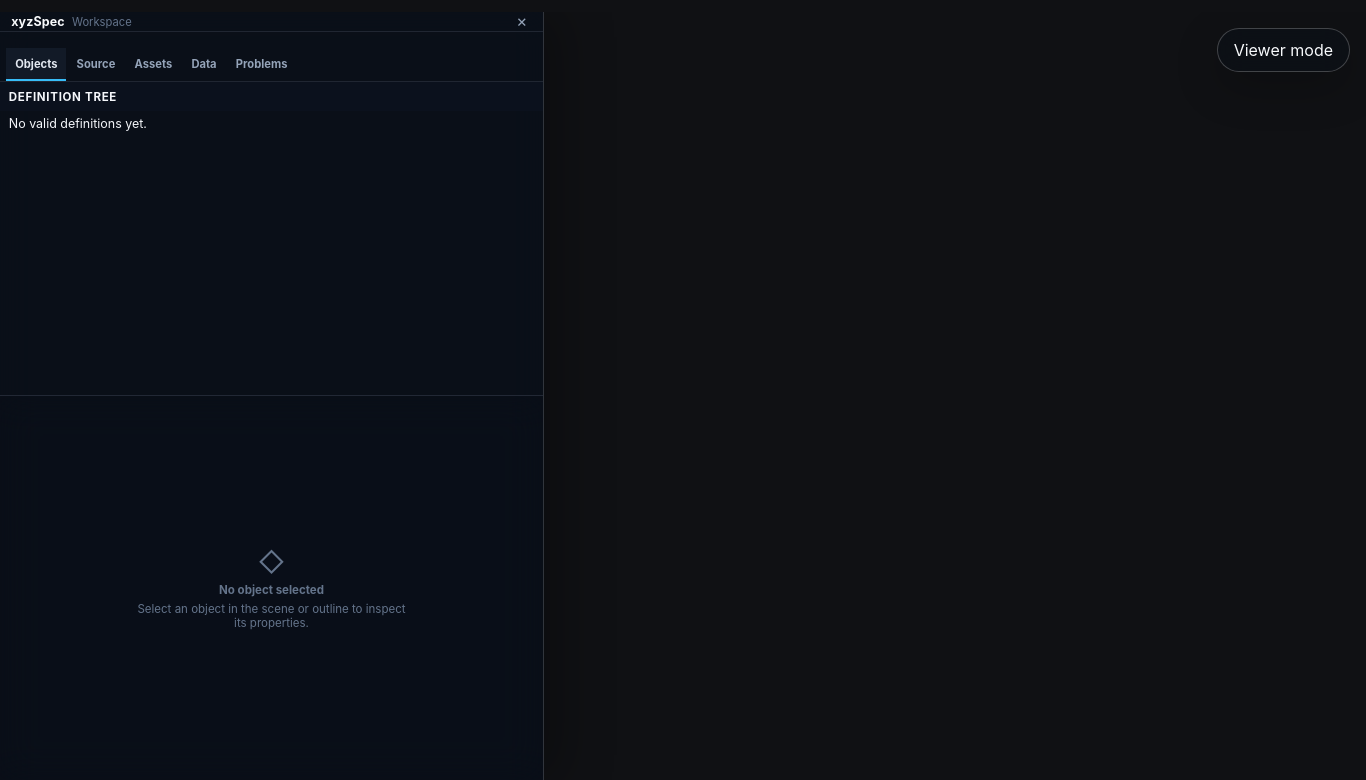
Test: makes assets reachable alongside the explorer object and data tabs
The width and height of the screenshot is (1366, 780).
Click the tab "Assets".
click(153, 65)  # box [126, 48, 181, 81]
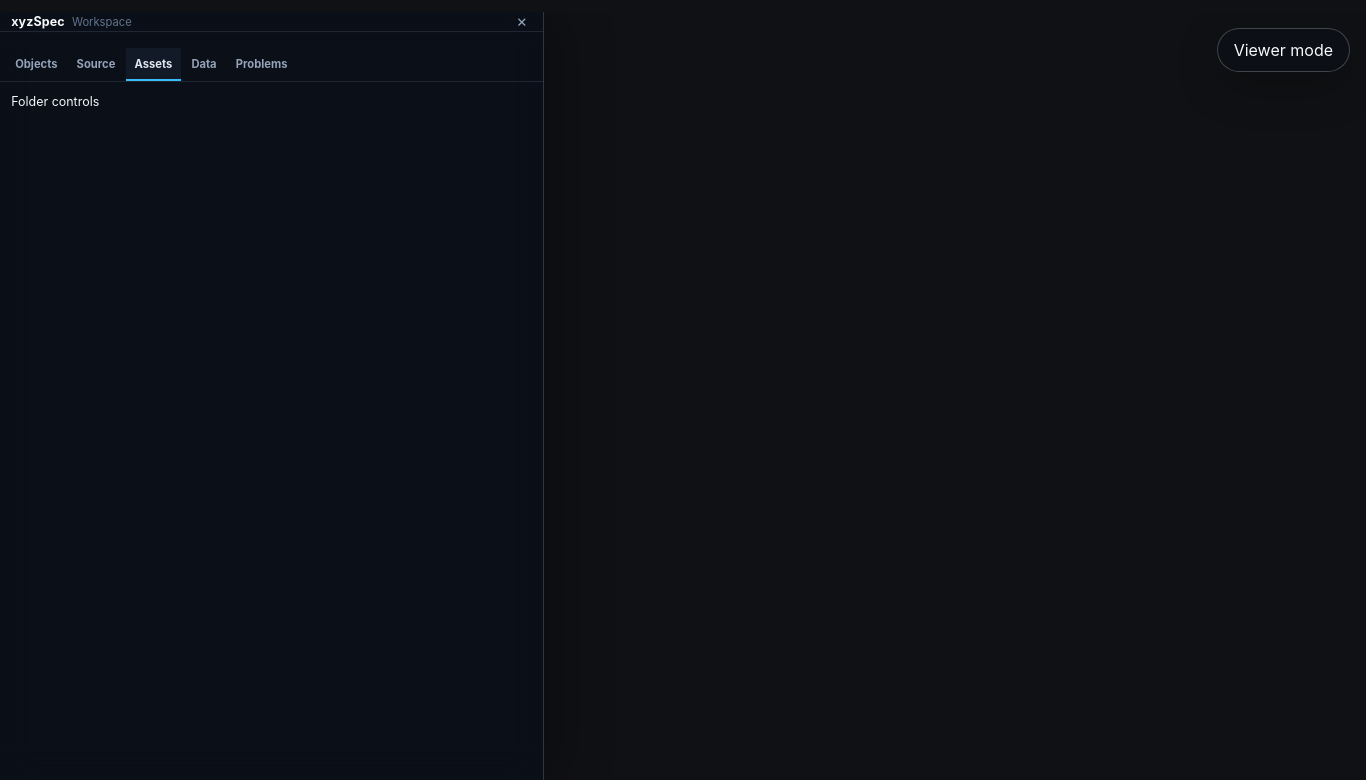
Expected: the tab "Objects" is shown, [6, 48, 66, 81]
Expected: the text "Folder controls" is shown, [11, 94, 99, 109]
